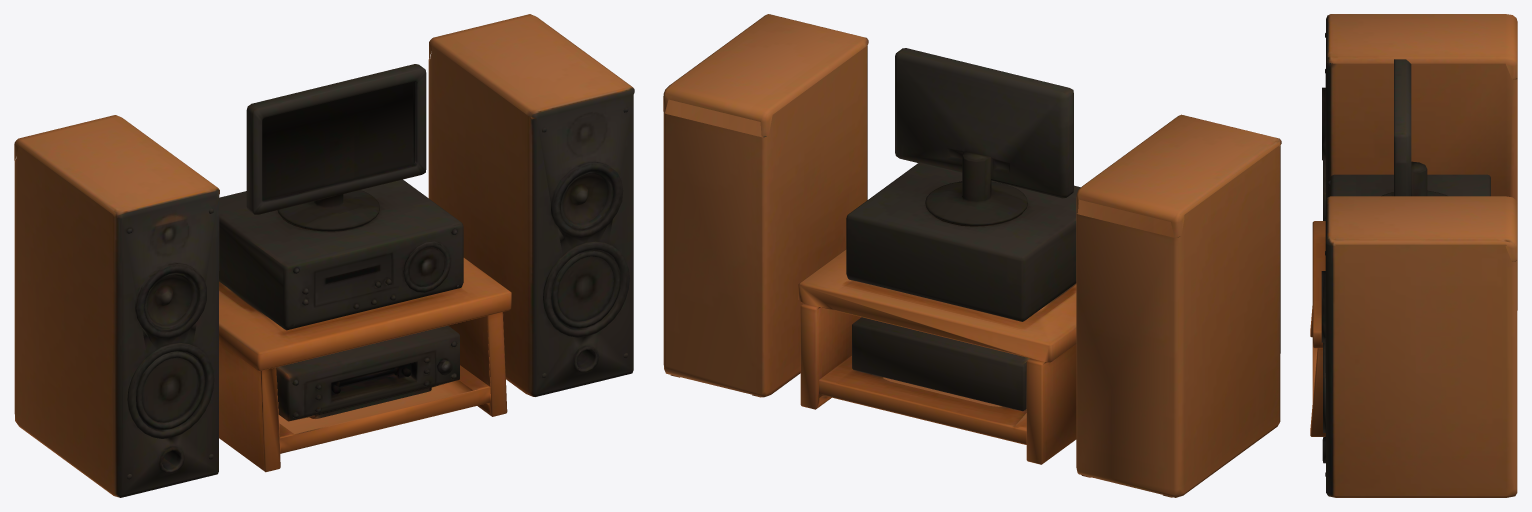
The model's file is hi-fi_sound_system_2a2cc620_v1.glb.
The picture shows the model from 3 angles, left to right: view 1: azimuth 30°, elevation 25°; view 2: azimuth 150°, elevation 25°; view 3: azimuth 270°, elevation 25°; orthographic projection. The views are drawn at different scales.
Parts seen in each view (by area): view 1: material; view 2: material; view 3: material.
Part boxes in pixels (x1,y1,x2,y2): material: (14, 14, 634, 497); material: (663, 14, 1281, 497); material: (1310, 14, 1517, 497).
Bounding box in the file's own units: 1.9 × 1.13 × 0.7299.
1 material, 1 textured.
